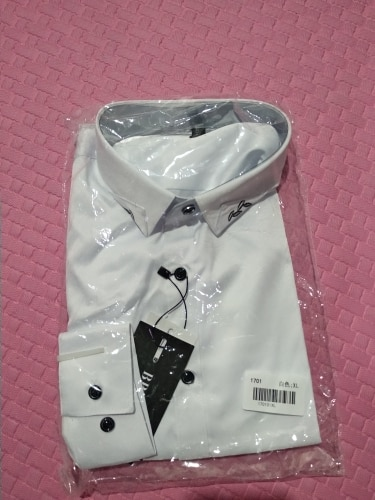shirts: (64, 118, 322, 460)
